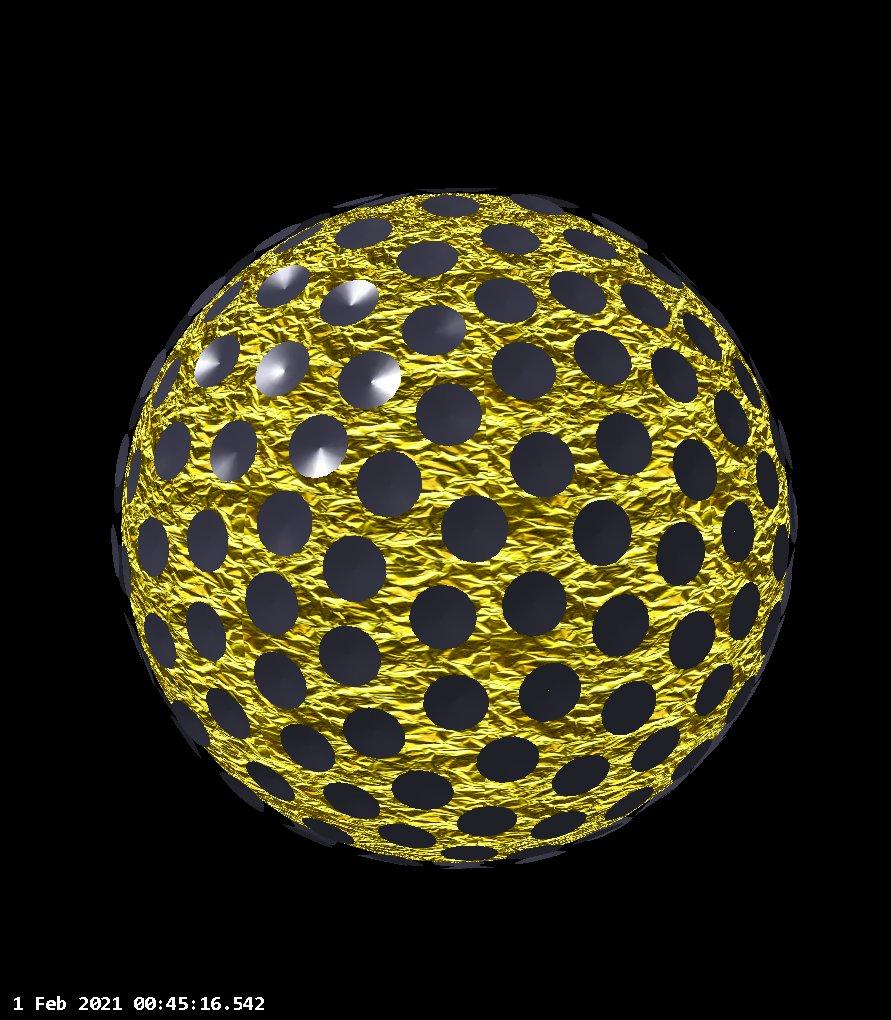antenna: (439, 489, 509, 565), (355, 447, 423, 520), (507, 430, 578, 498), (502, 569, 571, 637), (321, 533, 388, 603), (414, 382, 483, 448), (411, 581, 477, 649), (571, 497, 633, 568), (337, 347, 404, 412), (423, 672, 491, 734), (318, 622, 382, 687), (491, 340, 557, 403), (517, 661, 583, 723), (591, 590, 650, 659), (256, 489, 315, 557), (653, 515, 706, 590), (594, 411, 654, 476), (289, 414, 349, 478), (245, 569, 299, 636), (342, 705, 407, 760), (574, 328, 633, 388), (252, 650, 310, 711), (207, 417, 261, 482), (399, 304, 465, 357), (254, 337, 310, 399), (476, 735, 542, 784), (668, 608, 718, 672), (670, 436, 718, 502), (601, 680, 658, 735), (474, 276, 538, 324), (278, 721, 336, 773), (549, 752, 612, 799), (252, 261, 311, 311), (548, 269, 610, 316), (650, 345, 700, 403), (185, 599, 231, 662), (319, 276, 378, 325), (397, 239, 459, 284), (187, 508, 229, 573), (204, 685, 253, 740), (390, 769, 454, 811), (618, 280, 671, 330), (628, 724, 683, 772), (196, 331, 243, 387), (692, 661, 737, 719), (141, 610, 184, 670), (701, 296, 746, 353), (147, 351, 189, 411), (591, 210, 652, 251), (718, 499, 757, 562), (319, 783, 383, 821), (242, 759, 296, 804), (152, 421, 194, 478), (680, 309, 725, 361), (454, 804, 519, 839), (713, 392, 752, 449), (170, 698, 213, 749), (635, 248, 687, 290), (137, 515, 171, 579), (218, 770, 267, 814), (726, 583, 762, 642), (668, 736, 713, 783), (603, 784, 656, 823), (334, 217, 393, 252), (202, 278, 245, 326), (482, 223, 544, 256), (563, 226, 619, 261), (271, 221, 324, 257), (302, 812, 356, 847), (725, 673, 760, 725), (419, 192, 481, 221), (531, 809, 589, 840), (168, 714, 206, 760), (379, 821, 436, 851), (754, 451, 782, 511), (734, 357, 764, 412), (250, 220, 298, 254), (285, 822, 339, 851), (507, 191, 566, 217), (758, 599, 784, 658), (352, 851, 426, 871), (280, 211, 332, 239), (661, 251, 700, 288), (570, 821, 625, 847), (219, 249, 257, 283), (775, 415, 797, 471), (512, 846, 567, 868), (747, 354, 775, 397), (126, 382, 150, 432), (124, 446, 144, 505), (164, 310, 192, 352), (121, 612, 144, 662), (772, 522, 791, 582), (111, 433, 131, 488), (331, 191, 382, 212), (442, 843, 500, 861), (534, 192, 581, 212), (356, 191, 410, 208), (787, 482, 801, 544), (439, 863, 499, 877), (108, 521, 121, 581), (121, 543, 132, 599), (447, 184, 496, 195), (414, 183, 462, 193), (111, 478, 123, 515)
body: (121, 181, 800, 866)
